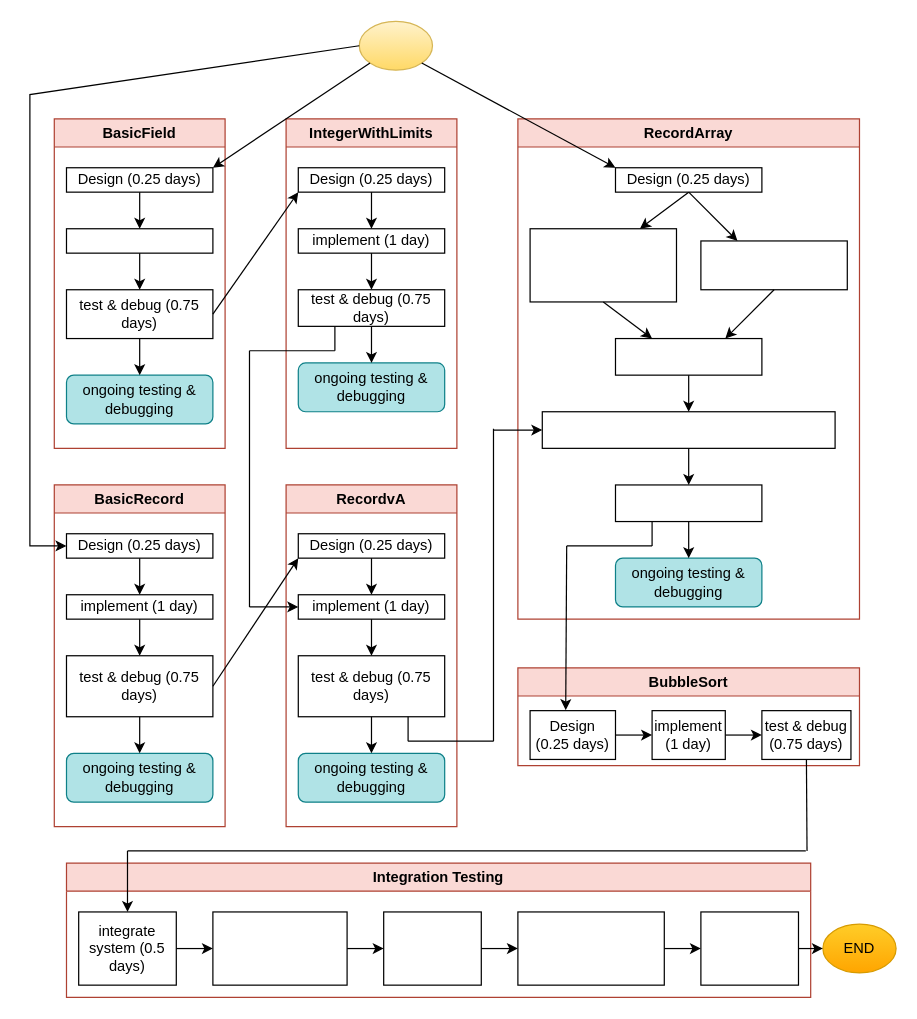
This 917x1019 diagram has some shape labels left out. Each missing label, with the centre of its shape:
"create & run additional tests (2 days)" belongs at point (431, 948).
"final bugfixes (2 days)" belongs at point (749, 948).
"implement (0.5 days)" belongs at point (139, 240).
"implement a class to represent Record in basic testing (0.5 days)" belongs at point (602, 265).
"implement basic features (1 day)" belongs at point (773, 265).
"implement features which heavily depend on Record implementation (1 day)" belongs at point (688, 429).
"modify RecordArray tests for integration & run them (1.5 days)" belongs at point (279, 948).
"START" belongs at point (395, 45).
"test & debug (1.5 days)" belongs at point (688, 503).
"test & debug basic features (1 day)" belongs at point (688, 356).
"use Clang sanitisers to analyse behaviour (memory bugs etc) (1 day)" belongs at point (590, 948).
